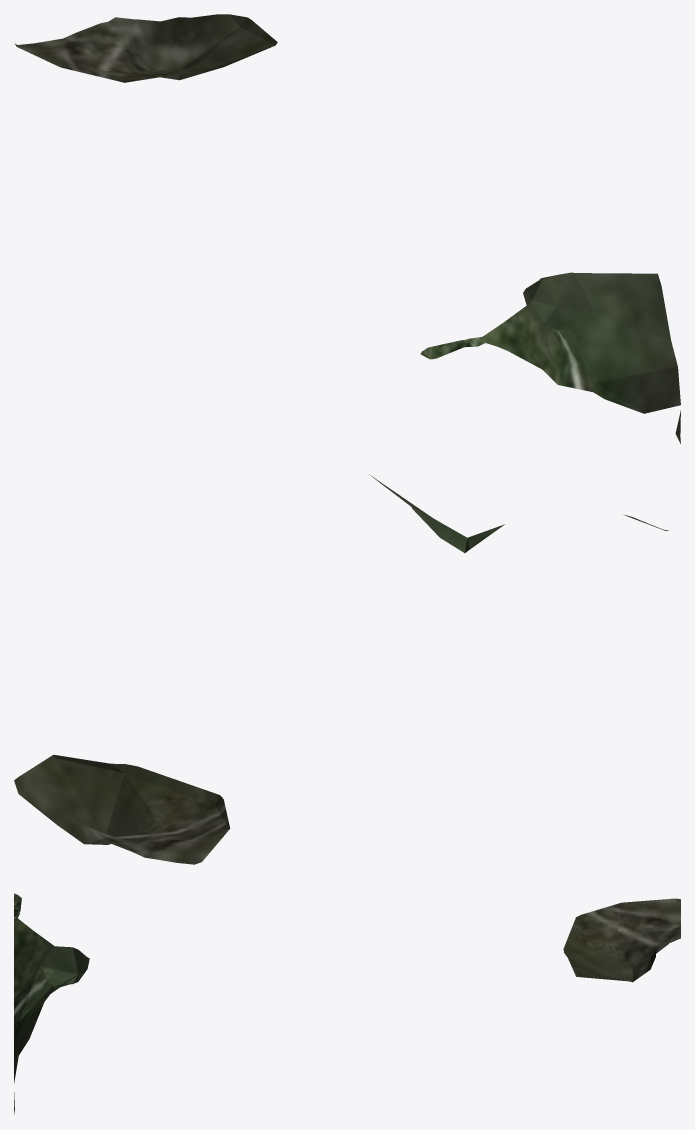
The picture shows the model from 3 angles, top to bottom: view 1: azimuth 30°, elevation 25°; view 2: azimuth 150°, elevation 25°; view 3: azimuth 270°, elevation 25°; orthographic projection. The views are drawn at different scales.
Bounding box in the file's own units: 1.05 × 0.5939 × 2.95.
Materials: 1 (1 with a texture image).
